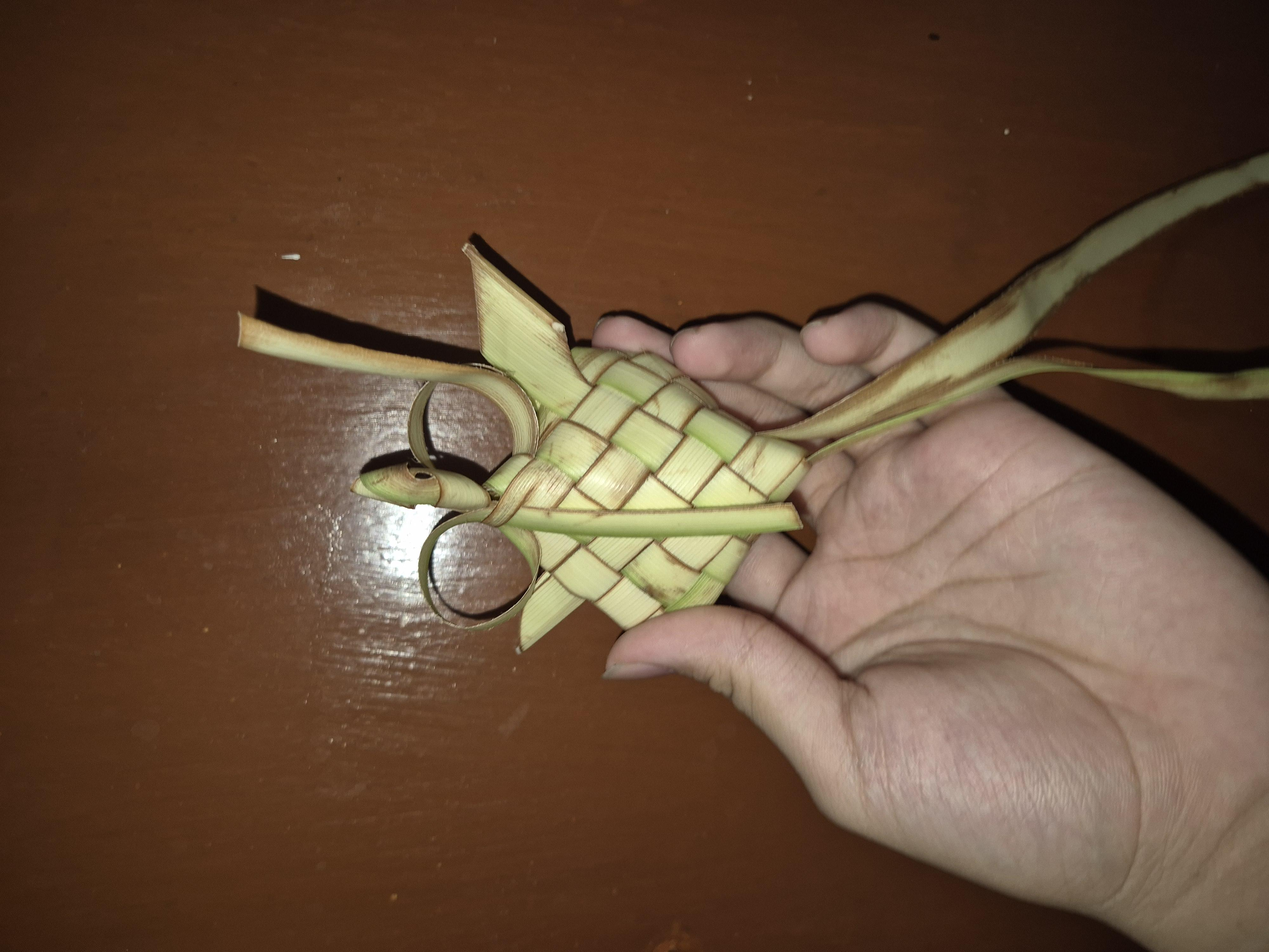Tipat Dampulan: (406, 179, 941, 606)
